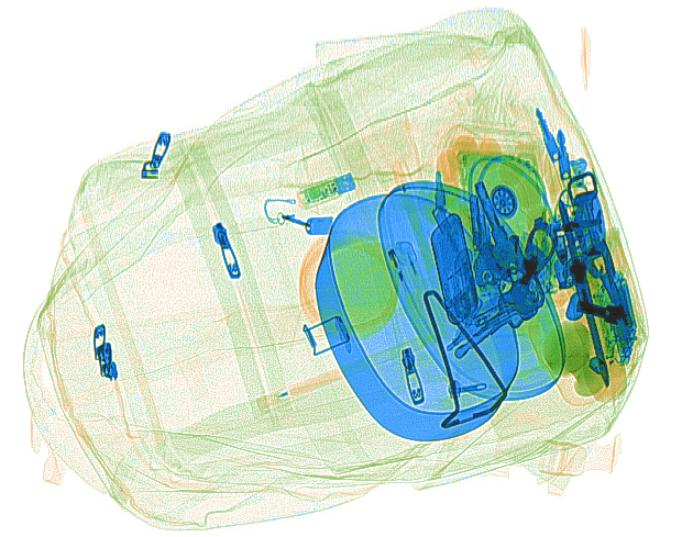USBFlashDisk: (295, 169, 359, 209)
lighter: (384, 238, 443, 344)
seal: (542, 318, 607, 397)
